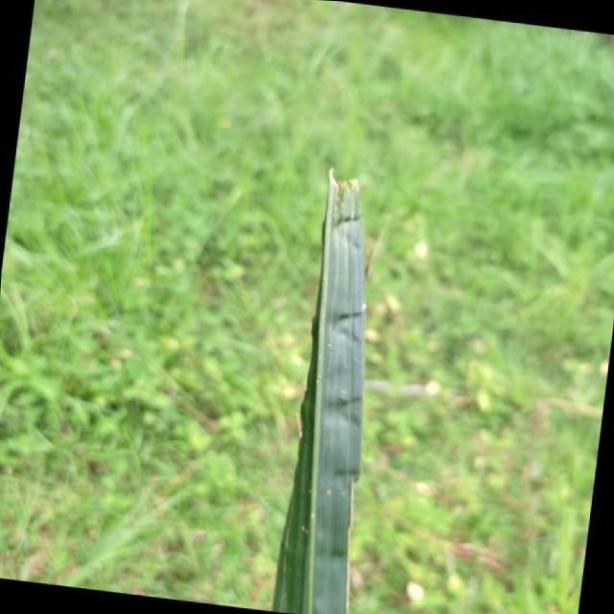Boron: (268, 163, 376, 614)
